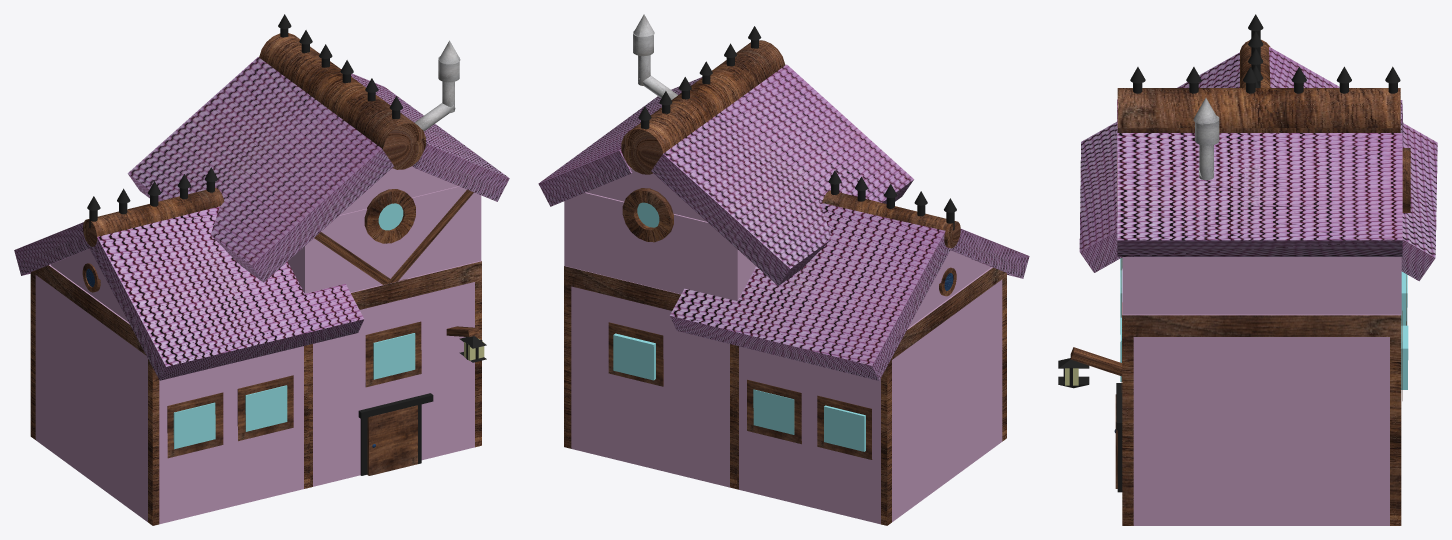
File: CASALVL2.fbx
3 views of the same model, side by side, from view 1: azimuth 30°, elevation 25°; view 2: azimuth 150°, elevation 25°; view 3: azimuth 270°, elevation 25° (orthographic). The views are drawn at different scales.
Visible parts, largest first — view 1: Box036, Box019, Box034, Box016, Box031, Cylinder007, Box018, Box020, Cylinder011, Box035, Tube004, Box037 (+11 smaller); view 2: Box036, Box019, Box016, Box035, Box031, Cylinder007, Box018, Cylinder011, Box034, Tube003, Box043, Box045 (+7 smaller); view 3: Box016, Box018, Box031, Cylinder007, Box034, Box035, Cylinder011, Box024, Tube003, Cylinder010, Cylinder009, Box043.
Boxes of the visible parts, <box> form: Box036: <box>30,264,310,525</box>; Box019: <box>127,57,393,282</box>; Box034: <box>87,206,364,380</box>; Box016: <box>305,260,481,487</box>; Box031: <box>287,186,481,293</box>; Cylinder007: <box>259,33,425,169</box>; Box018: <box>341,69,509,201</box>; Box020: <box>367,405,417,475</box>; Cylinder011: <box>83,187,224,246</box>; Box035: <box>14,222,89,275</box>; Tube004: <box>364,189,415,243</box>; Box037: <box>373,333,415,379</box>; Box036: <box>732,267,1006,525</box>; Box019: <box>651,64,913,285</box>; Box016: <box>564,266,737,489</box>; Box035: <box>669,199,950,380</box>; Box031: <box>564,192,756,300</box>; Cylinder007: <box>621,40,785,174</box>; Box018: <box>538,77,702,206</box>; Cylinder011: <box>822,190,960,248</box>; Box034: <box>948,229,1029,278</box>; Tube003: <box>622,188,673,242</box>; Box043: <box>613,333,655,380</box>; Box045: <box>824,405,865,451</box>; Box016: <box>1122,257,1401,525</box>; Box018: <box>1117,133,1402,256</box>; Box031: <box>1123,257,1401,314</box>; Cylinder007: <box>1117,88,1400,132</box>; Box034: <box>1079,52,1239,272</box>; Box035: <box>1269,47,1437,281</box>; Cylinder011: <box>1240,39,1270,87</box>; Box024: <box>1070,347,1122,376</box>; Tube003: <box>1402,148,1410,212</box>; Cylinder010: <box>1195,115,1219,145</box>; Cylinder009: <box>1199,145,1213,180</box>; Box043: <box>1401,325,1408,389</box>.
Bounding box in the file's own units: 1.54 × 1.54 × 1.22.
